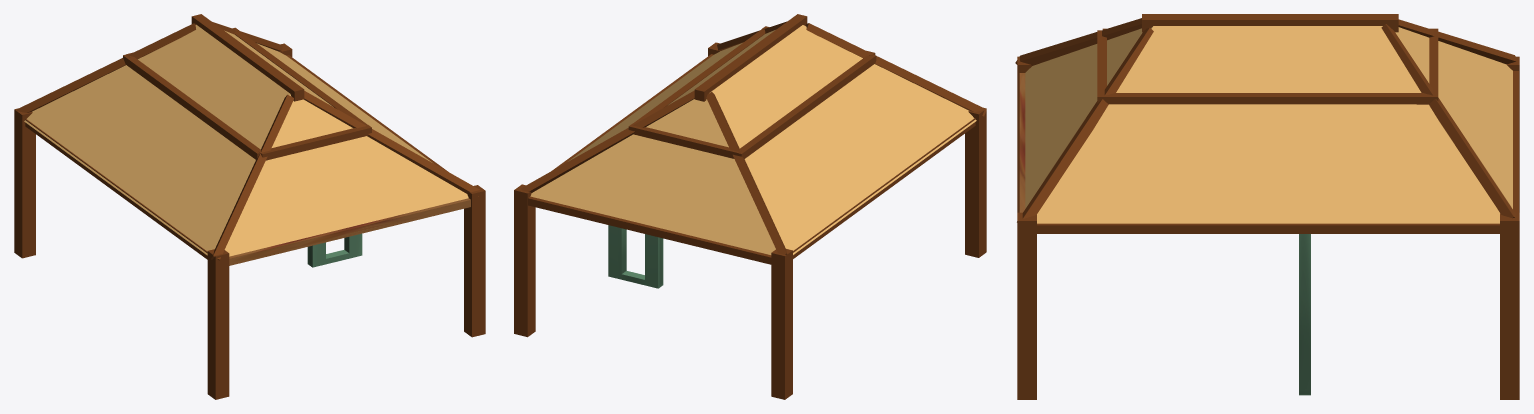
The model's file is Ceiling.fbx.
3 renders of one model, left to right at view 1: azimuth 30°, elevation 25°; view 2: azimuth 150°, elevation 25°; view 3: azimuth 270°, elevation 25°, orthographic. The views are drawn at different scales.
Visible parts, largest first — view 1: techo.002, viga_madera.002, viga_madera.001, viga_madera, viga_madera.008, viga_madera.016, viga_madera.014, viga_madera.020, viga_madera.015, viga_madera.013, viga_madera.004, viga_madera.018 (+3 smaller); view 2: techo.002, viga_madera, Cube, viga_madera.002, viga_madera.007, Pared.004, viga_madera.016, viga_madera.020, viga_madera.012, viga_madera.013, viga_madera.015, viga_madera.004 (+3 smaller); view 3: techo.002, viga_madera.003, viga_madera.017, viga_madera.001, Cube, viga_madera.020, viga_madera.012, viga_madera.014, Pared.004, viga_madera.015, viga_madera.013, viga_madera.008 (+4 smaller).
Part boxes in pixels (bbox=[...]): techo.002: bbox=[24, 24, 468, 256]; viga_madera.002: bbox=[207, 249, 229, 399]; viga_madera.001: bbox=[464, 185, 485, 337]; viga_madera: bbox=[14, 108, 35, 258]; viga_madera.008: bbox=[229, 198, 470, 265]; viga_madera.016: bbox=[123, 54, 261, 159]; viga_madera.014: bbox=[304, 91, 479, 196]; viga_madera.020: bbox=[191, 14, 304, 101]; viga_madera.015: bbox=[210, 94, 293, 260]; viga_madera.013: bbox=[16, 23, 195, 112]; viga_madera.004: bbox=[25, 119, 207, 259]; viga_madera.018: bbox=[258, 125, 371, 160]; techo.002: bbox=[530, 25, 976, 254]; viga_madera: bbox=[771, 249, 792, 399]; Cube: bbox=[514, 184, 535, 337]; viga_madera.002: bbox=[965, 107, 986, 257]; viga_madera.007: bbox=[528, 196, 771, 264]; Pared.004: bbox=[608, 225, 663, 288]; viga_madera.016: bbox=[738, 54, 876, 158]; viga_madera.020: bbox=[694, 14, 807, 101]; viga_madera.012: bbox=[521, 90, 694, 192]; viga_madera.013: bbox=[706, 92, 787, 254]; viga_madera.015: bbox=[806, 23, 986, 116]; viga_madera.004: bbox=[793, 118, 975, 258]; techo.002: bbox=[1025, 26, 1512, 223]; viga_madera.003: bbox=[1037, 223, 1499, 233]; viga_madera.017: bbox=[1107, 93, 1428, 104]; viga_madera.001: bbox=[1017, 212, 1036, 399]; Cube: bbox=[1500, 212, 1519, 399]; viga_madera.020: bbox=[1142, 14, 1398, 32]; viga_madera.012: bbox=[1381, 24, 1515, 218]; viga_madera.014: bbox=[1017, 27, 1153, 222]; Pared.004: bbox=[1299, 234, 1310, 395]; viga_madera.015: bbox=[1015, 18, 1141, 65]; viga_madera.013: bbox=[1398, 19, 1516, 64]; viga_madera.008: bbox=[1019, 73, 1025, 212].
Size of the model in its own units: 991 by 843 by 1278.
Materials: 4 (2 with a texture image).
